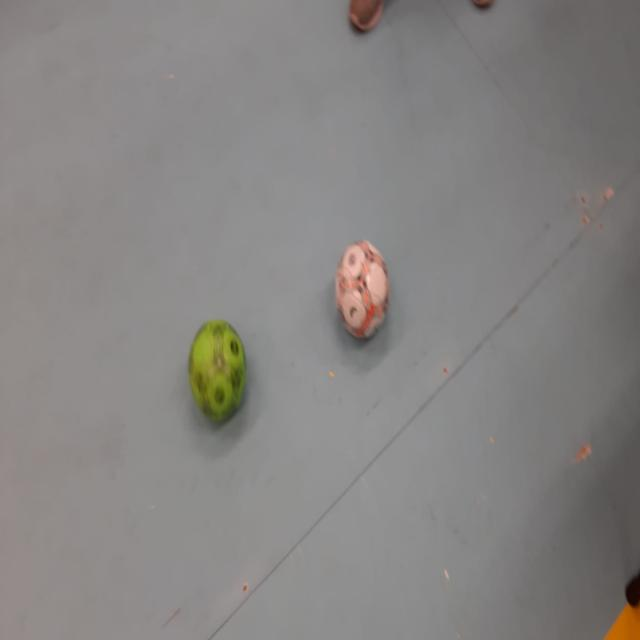ball: (190, 320, 246, 422), (336, 239, 390, 341)
